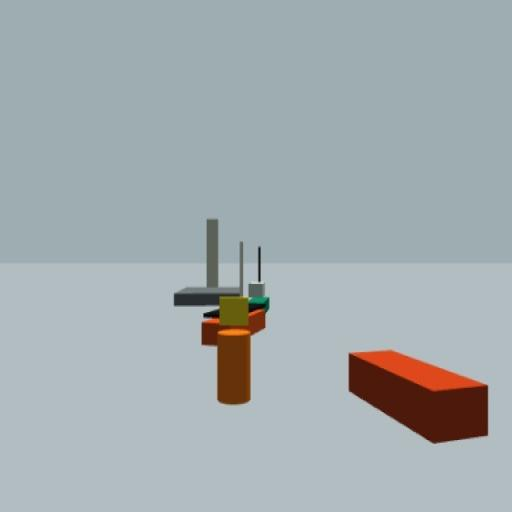buoy: (216, 294, 250, 406)
debris_container: (349, 347, 491, 447)
platform: (172, 215, 242, 308)
